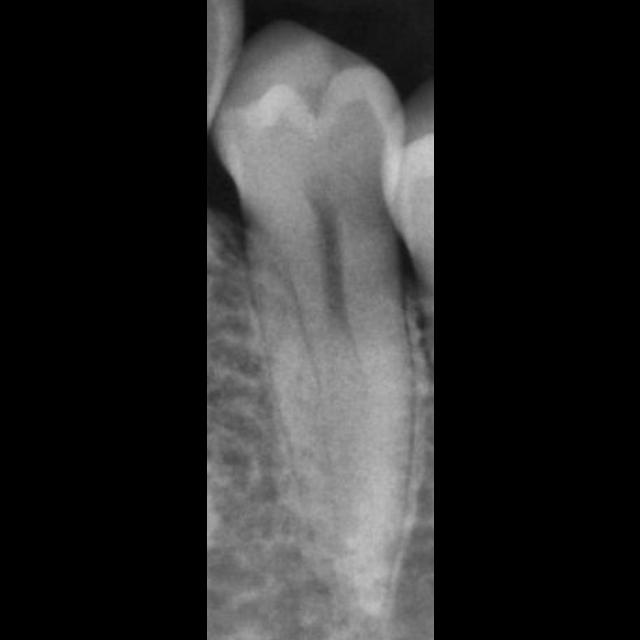tooth: (209, 18, 417, 618)
